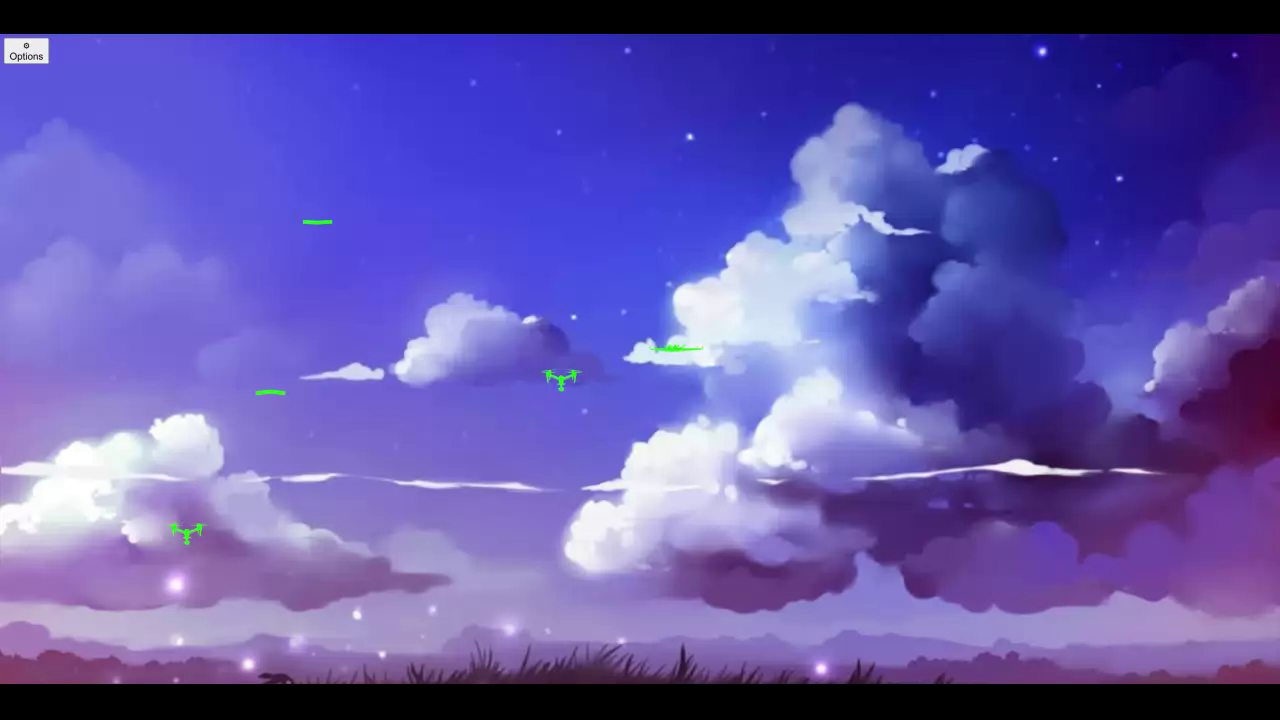Bird: (285, 203, 357, 239), (239, 373, 297, 403)
Drone: (633, 333, 700, 376), (641, 333, 716, 371)
Quadcopter: (523, 355, 592, 403), (157, 508, 222, 558)
